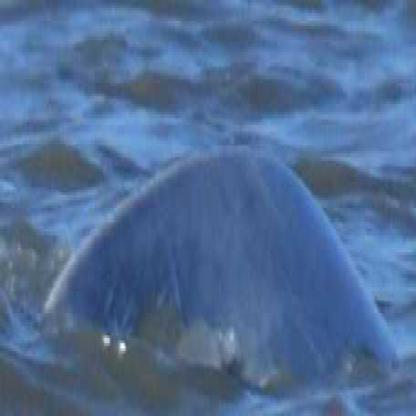dolphin-whale: (32, 125, 406, 402)
